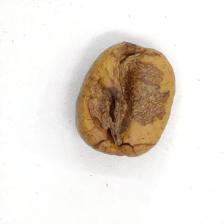NG: (91, 47, 165, 153)
